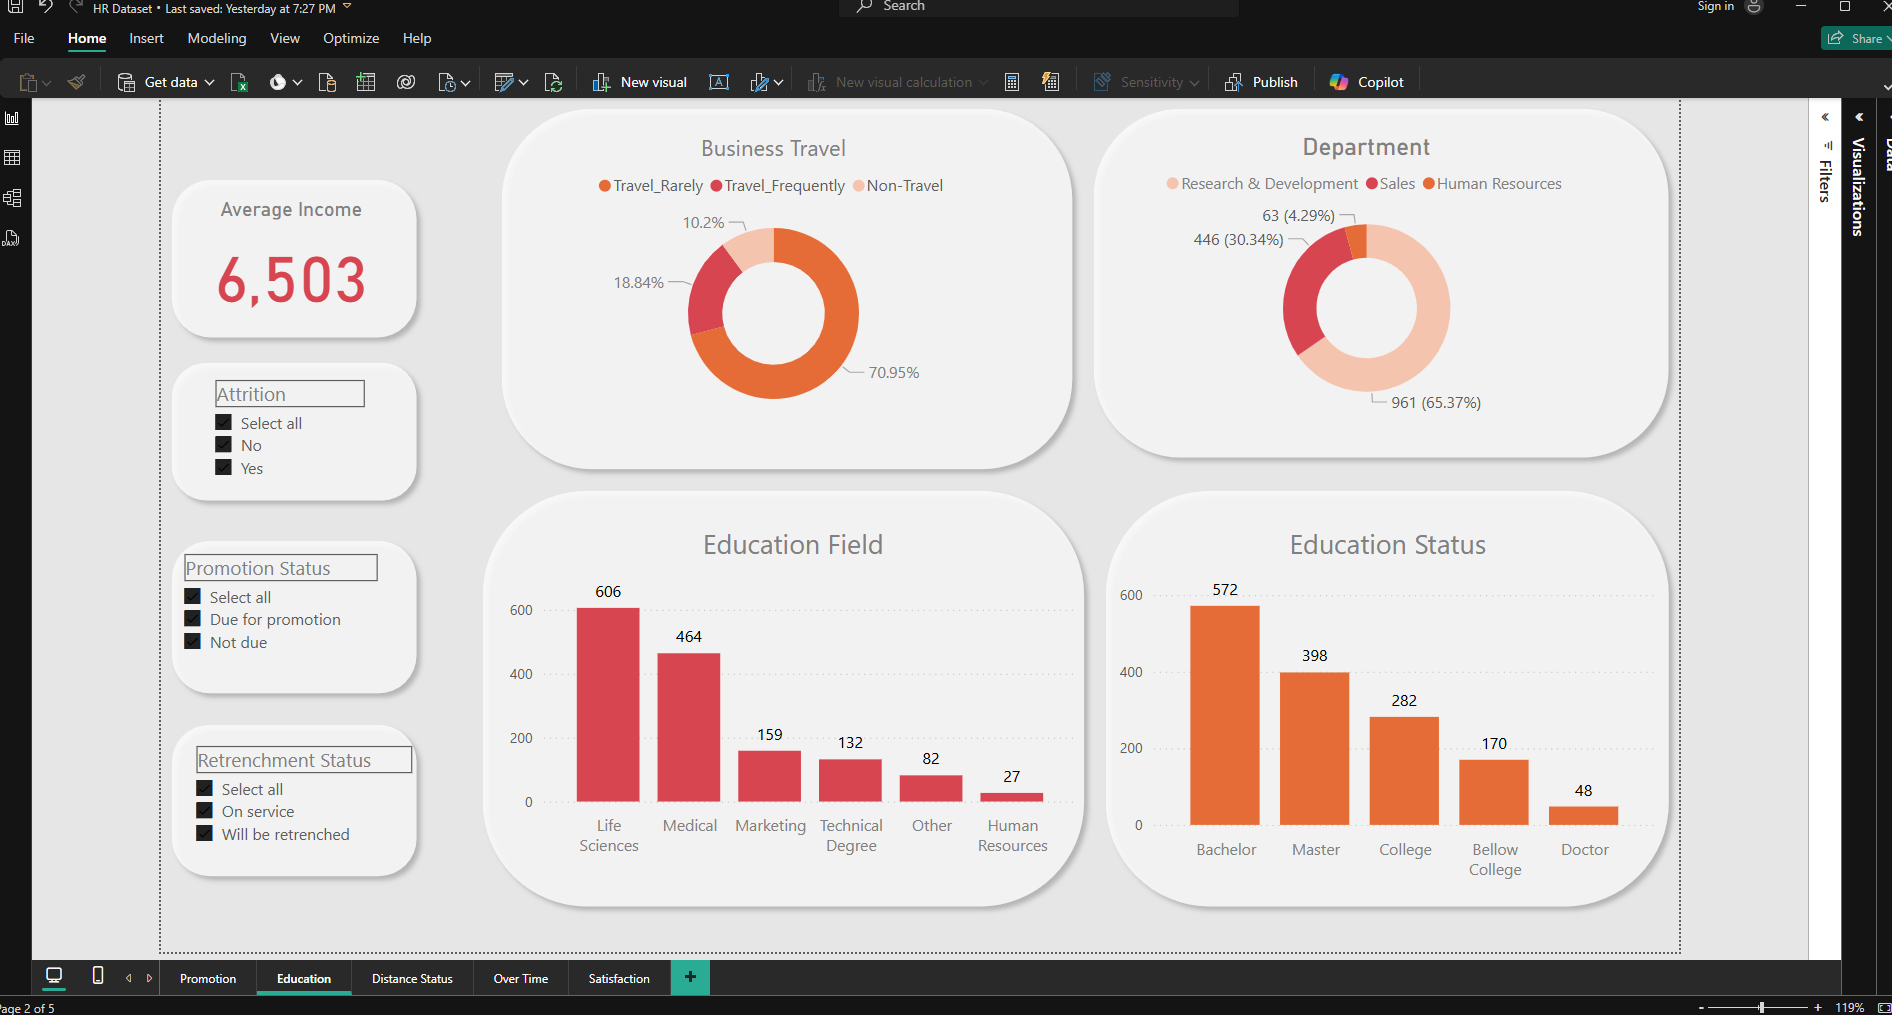

Layout of this report page (visuals, bound fields, positions):
{"tool":"powerbi","page":{"name":"Education ","canvas":[1280,720],"ordinal":1},"visuals":[{"type":"shape","box":[278.2,0,499.1,322],"z":0},{"type":"shape","box":[787.1,322,492.8,368.5],"z":1000},{"type":"donutChart","title":"Business Travel","fields":{"Category":["HR-Employee-Attrition.BusinessTravel"],"Y":["new measures.Total Emp"]},"box":[331.8,28.6,368.5,252.2],"z":2000},{"type":"shape","box":[777.2,0,502.7,312.1],"z":3000},{"type":"donutChart","title":"Department","fields":{"Category":["HR-Employee-Attrition.Department"],"Y":["new measures.Total Emp"]},"box":[822.9,28.6,387.3,245.1],"z":4000},{"type":"columnChart","title":"Education Status","fields":{"Category":["HR-Employee-Attrition.Education Status"],"Y":["new measures.Total Emp"]},"box":[802.3,360.4,463.3,305],"z":5000},{"type":"shape","box":[0,213.8,224.5,134.2],"z":6000},{"type":"slicer","fields":{"Values":["HR-Employee-Attrition.Attrition"]},"box":[33.1,232.5,152,103.8],"z":7000},{"type":"shape","box":[262.1,322,525,368.5],"z":8000},{"type":"clusteredColumnChart","title":"Education Field","fields":{"Category":["HR-Employee-Attrition.EducationField"],"Y":["new measures.Total Emp"]},"box":[288,360.4,489.2,285.3],"z":9000},{"type":"shape","box":[0,519.7,224.5,145.8],"z":9001},{"type":"shape","box":[0,364,224.5,146.7],"z":9002},{"type":"slicer","fields":{"Values":["HR-Employee-Attrition.Promotion Status"]},"box":[7.2,379.2,188.7,112.7],"z":9003},{"type":"slicer","fields":{"Values":["HR-Employee-Attrition.Retrenchment Status"]},"box":[17,541.1,207.5,102.9],"z":9004},{"type":"shape","box":[0,59.9,224.5,151.2],"z":9006},{"type":"card","title":"Average Income","fields":{"Values":["new measures.Avg Income"]},"box":[17,83.2,186,105.5],"z":9007}]}

Visuals, with their boxes on the page's 1280x720 design canvas (x1, y1, x2, y2). These are canvas units, not pixel positions in the 1892x1015 screenshot, which may show the page scaled, cropped or inside an application window:
shape: left=278, top=0, right=777, bottom=322
shape: left=787, top=322, right=1280, bottom=690
"Business Travel" donutChart: left=332, top=29, right=700, bottom=281
shape: left=777, top=0, right=1280, bottom=312
"Department" donutChart: left=823, top=29, right=1210, bottom=274
"Education Status" columnChart: left=802, top=360, right=1266, bottom=665
shape: left=0, top=214, right=224, bottom=348
slicer - HR-Employee-Attrition.Attrition: left=33, top=232, right=185, bottom=336
shape: left=262, top=322, right=787, bottom=690
"Education Field" clusteredColumnChart: left=288, top=360, right=777, bottom=646
shape: left=0, top=520, right=224, bottom=666
shape: left=0, top=364, right=224, bottom=511
slicer - HR-Employee-Attrition.Promotion Status: left=7, top=379, right=196, bottom=492
slicer - HR-Employee-Attrition.Retrenchment Status: left=17, top=541, right=224, bottom=644
shape: left=0, top=60, right=224, bottom=211
"Average Income" card: left=17, top=83, right=203, bottom=189
